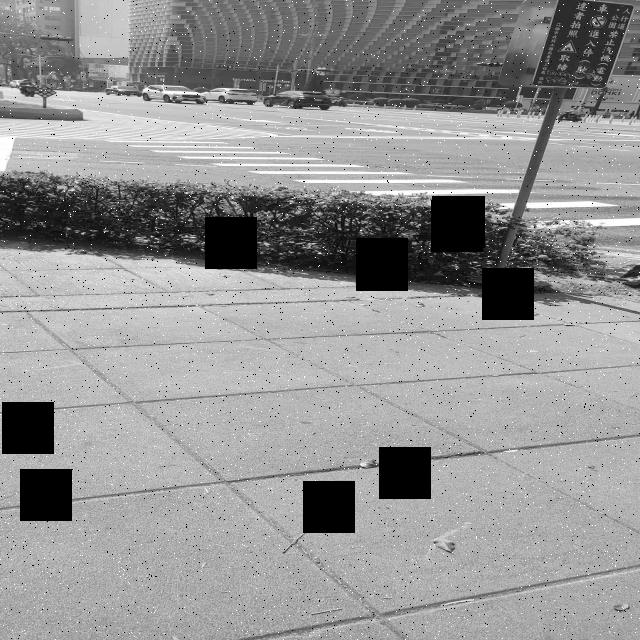zebra crossing: (113, 140, 522, 202), (518, 201, 637, 230)
